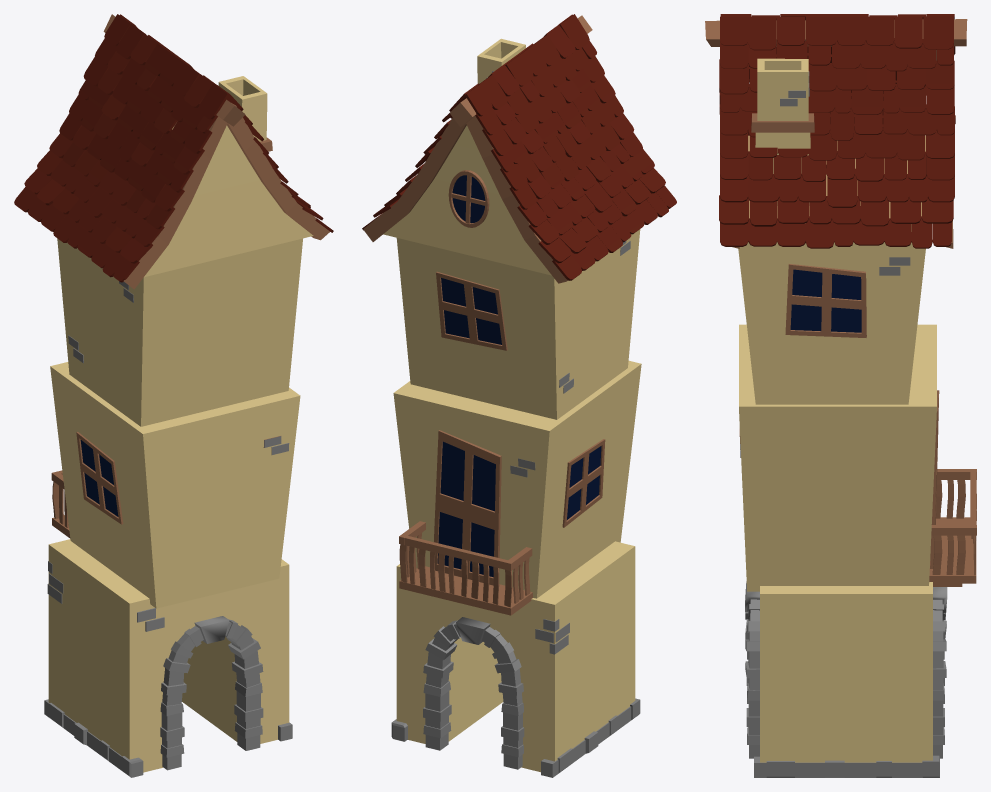
File: house1.fbx
3 views of the same model, side by side, from view 1: azimuth 30°, elevation 25°; view 2: azimuth 150°, elevation 25°; view 3: azimuth 270°, elevation 25° (orthographic). The views are drawn at different scales.
Visible parts, largest first — view 1: Cube.069; view 2: Cube.069; view 3: Cube.069.
Boxes of the visible parts, x1,y1,x2,y2 form: Cube.069: [14, 14, 333, 777]; Cube.069: [362, 14, 676, 777]; Cube.069: [705, 14, 976, 777].
Size of the model in its own units: 15.52 by 46.48 by 15.86.
